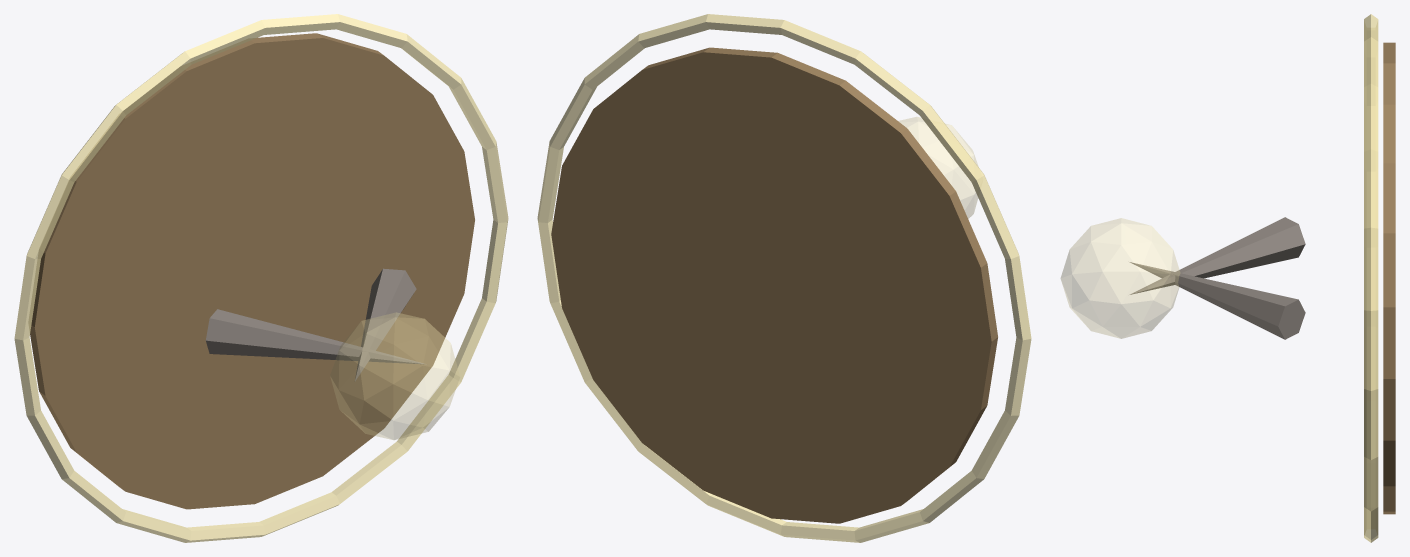
Rendered from 07_weather_terrain_nature_effect.glb.
3 renders of one model, left to right at view 1: azimuth 30°, elevation 25°; view 2: azimuth 150°, elevation 25°; view 3: azimuth 270°, elevation 25°, orthographic. The views are drawn at different scales.
Visible parts, largest first — view 1: terrain_patch, weather_boundary, weather_orb, root_spike_l, root_spike_r; view 2: terrain_patch, weather_boundary, weather_orb; view 3: weather_orb, weather_boundary, terrain_patch, root_spike_r, root_spike_l.
Part boxes in pixels (box(x1,y1,x2,y2)): terrain_patch: box(29, 33, 474, 509); weather_boundary: box(14, 14, 508, 542); weather_orb: box(330, 312, 459, 439); root_spike_l: box(205, 309, 425, 364); root_spike_r: box(354, 268, 416, 381); terrain_patch: box(551, 47, 997, 523); weather_boundary: box(537, 14, 1031, 542); weather_orb: box(898, 117, 978, 218); weather_orb: box(1060, 218, 1180, 338); weather_boundary: box(1364, 14, 1378, 542); terrain_patch: box(1383, 42, 1395, 514); root_spike_r: box(1130, 262, 1305, 339); root_spike_l: box(1130, 217, 1305, 294).
Size of the model in its own units: 1.75 by 1.75 by 1.1.
